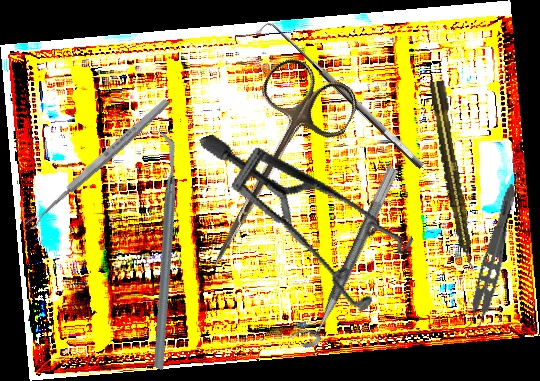Chopper: (64, 130, 260, 371)
Fixation Ring: (288, 158, 400, 353)
Handpiece: (427, 79, 479, 271)
Hook Surgical: (253, 13, 427, 182)
Iris Scissors: (177, 50, 365, 290)
Speculum: (198, 81, 431, 344)
Surgical Spoon: (24, 96, 172, 231)
Tissue Forceps: (459, 180, 521, 338)
